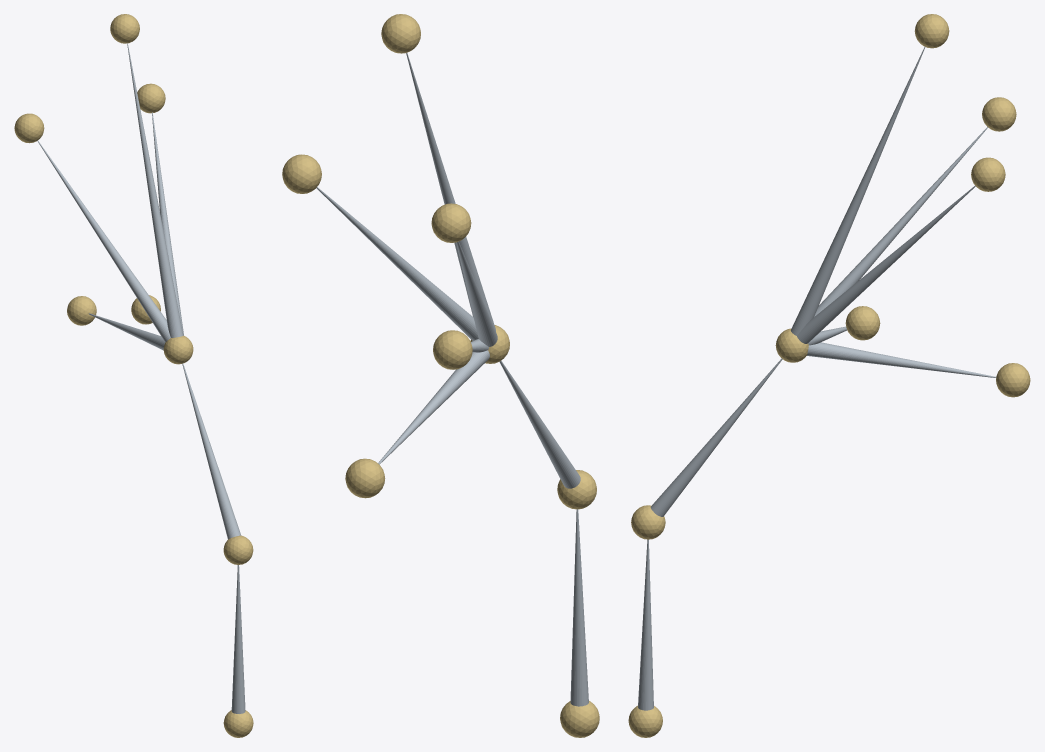
The model's file is skeleton.glb.
3 views of the same model, side by side, from view 1: azimuth 30°, elevation 25°; view 2: azimuth 150°, elevation 25°; view 3: azimuth 270°, elevation 25° (orthographic). The views are drawn at different scales.
Parts seen in each view (by area): view 1: geometry_0; view 2: geometry_0; view 3: geometry_0.
Part boxes in pixels (<box>): geometry_0: <box>14,14,253,737</box>; geometry_0: <box>282,14,599,737</box>; geometry_0: <box>628,14,1030,737</box>.
Bounding box in the file's own units: 0.2258 × 0.9508 × 0.4767.
